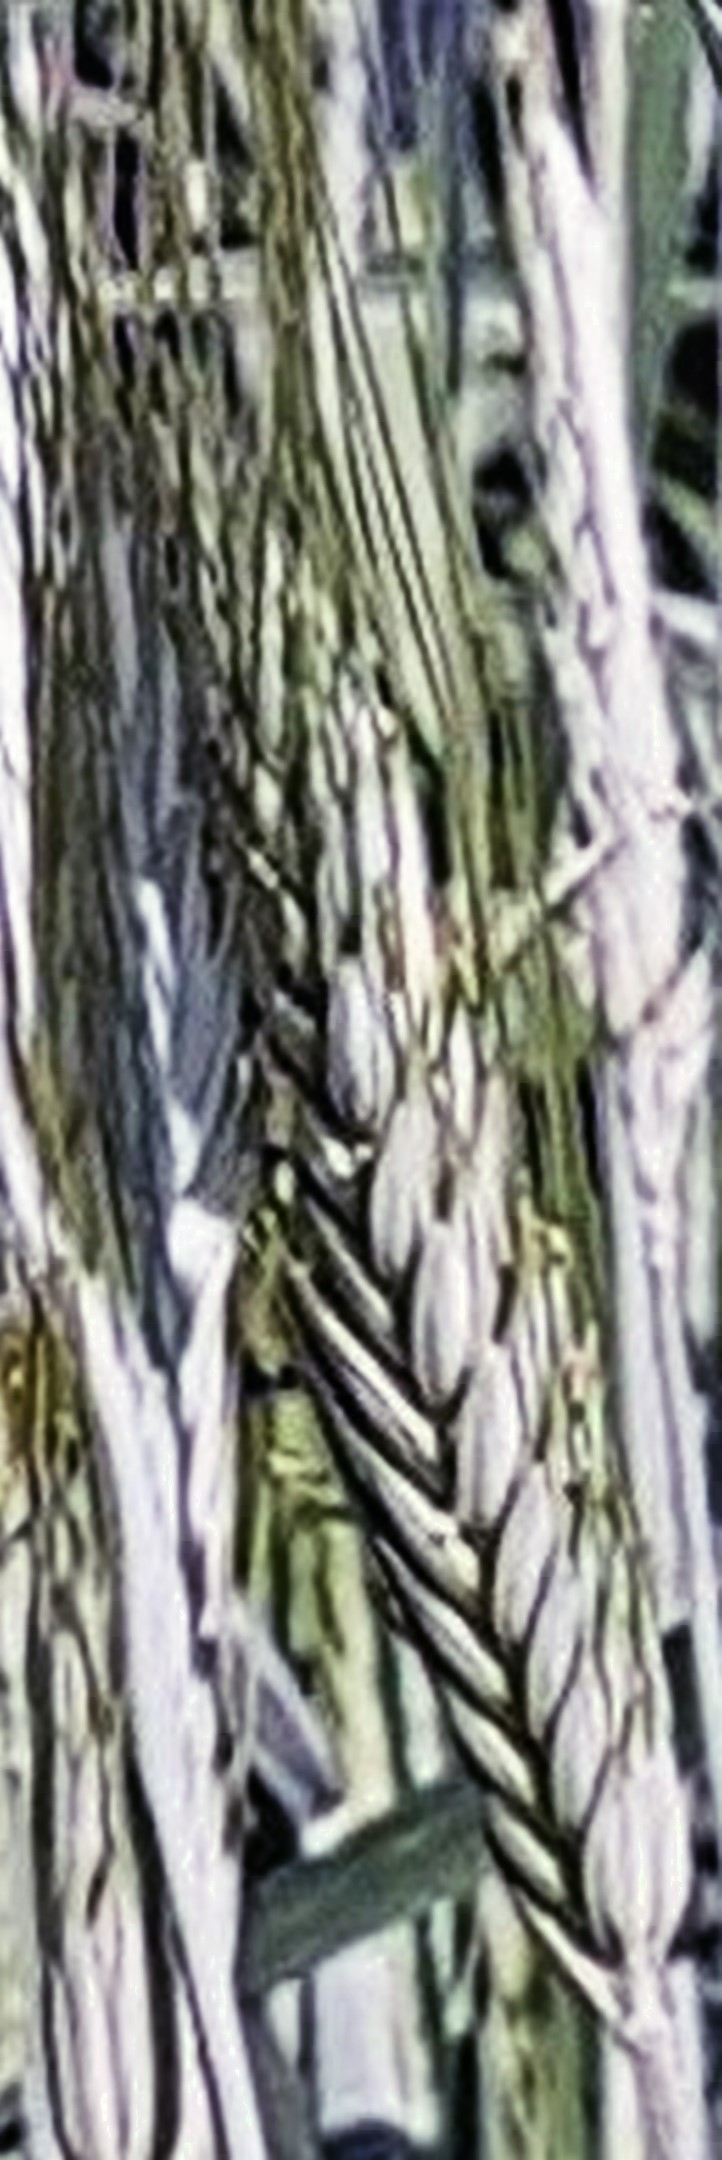Healthy Wheat: (183, 636, 722, 1935)
